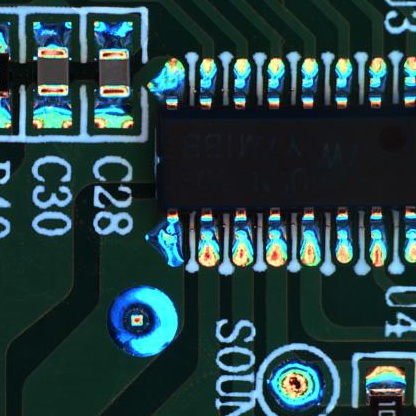spot: (103, 281, 183, 362), (265, 356, 326, 410)
